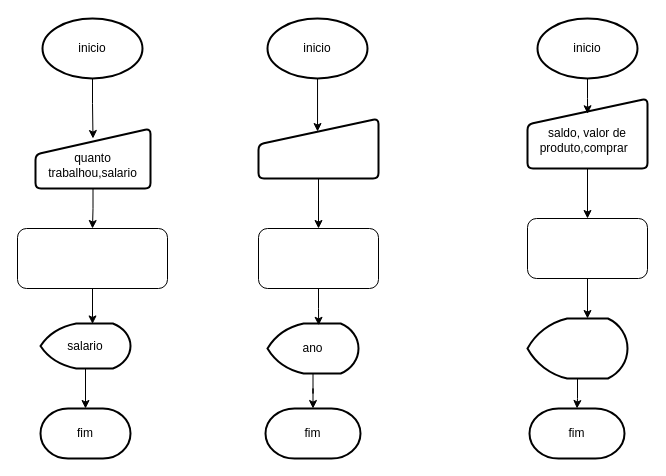
Some shapes in this 666 by 476 pixel diagram are drawn without their labels. The shapes that lost their labels are listed below. From the top down, each one's centre as x and y in pixels, then its label:
the point at 318,148: idade
the point at 92,258: salario= 20.75 * horas trabalhadas
the point at 318,258: anos= 2024 - idade
the point at 587,248: compra=saldo - valor
the point at 577,348: comprar
